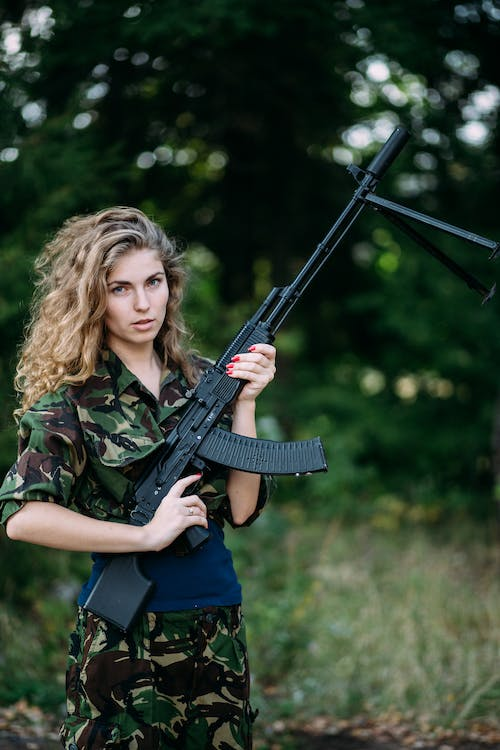gun: (77, 120, 500, 640)
